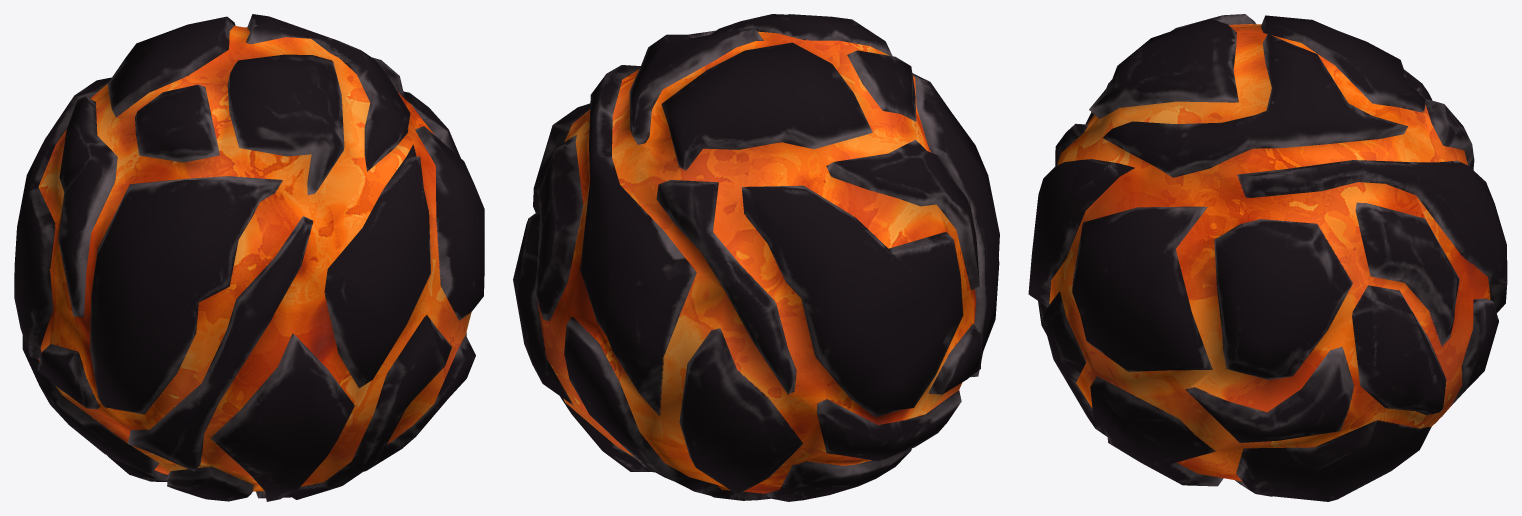
Rendered from Fire Spell.fbx.
The picture shows the model from 3 angles, left to right: view 1: azimuth 30°, elevation 25°; view 2: azimuth 150°, elevation 25°; view 3: azimuth 270°, elevation 25°; orthographic projection.
Visible parts, largest first — view 1: RetopoFlow; view 2: RetopoFlow; view 3: RetopoFlow.
Boxes of the visible parts, bbox=[...] form: RetopoFlow: bbox=[14, 14, 484, 501]; RetopoFlow: bbox=[513, 14, 999, 501]; RetopoFlow: bbox=[1028, 14, 1507, 501].
Bounding box in the file's own units: 196 × 205 × 198.
